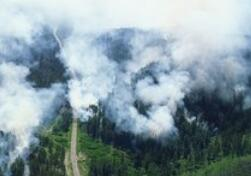smoke: (61, 0, 249, 139), (0, 4, 67, 160)
